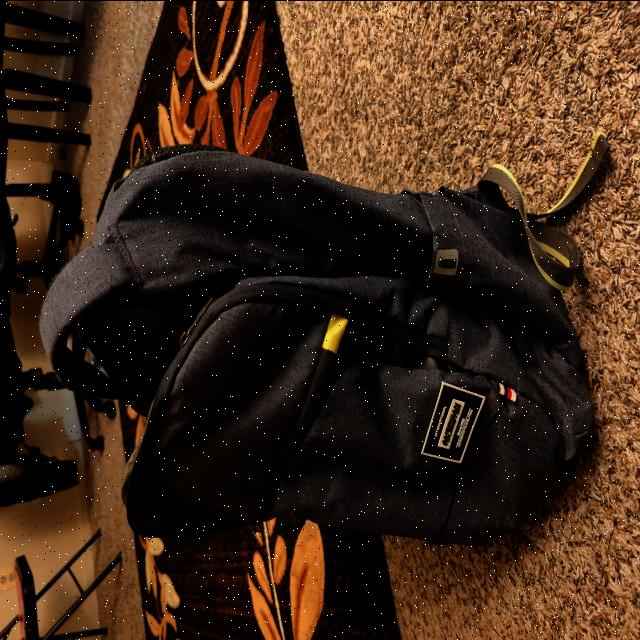bag: (56, 152, 589, 550)
